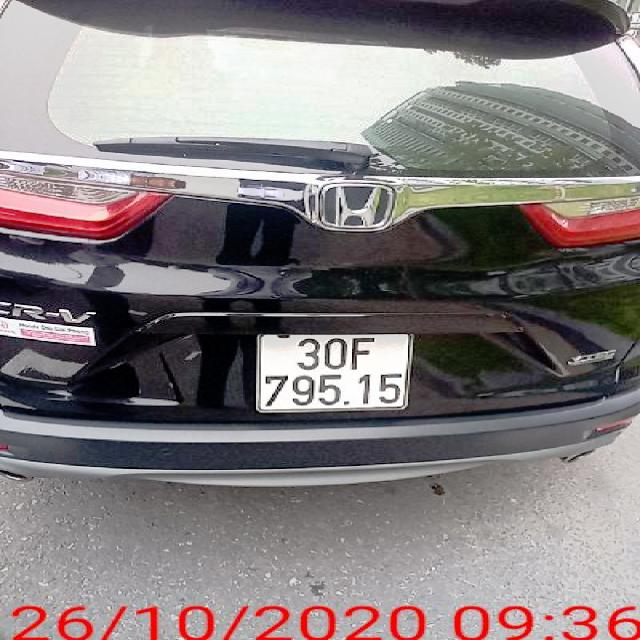license_plate: (258, 335, 414, 411)
